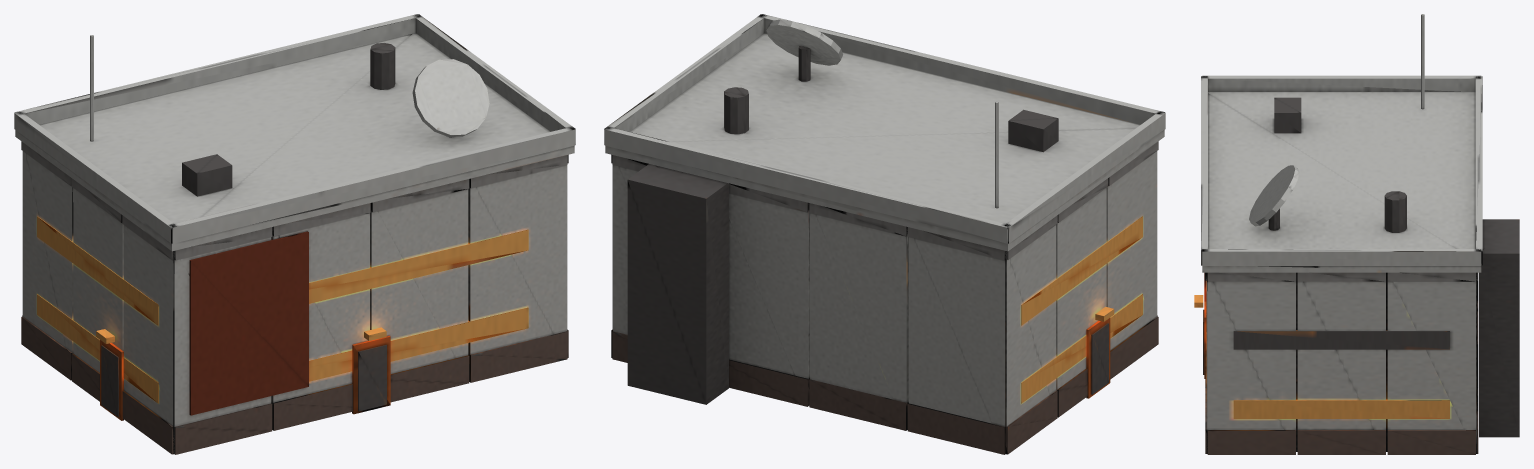
Rendered from B_plant_office.glb.
The picture shows the model from 3 angles, left to right: view 1: azimuth 30°, elevation 25°; view 2: azimuth 150°, elevation 25°; view 3: azimuth 270°, elevation 25°; orthographic projection. The views are drawn at different scales.
Visible parts, largest first — view 1: Cube; view 2: Cube; view 3: Cube.
Boxes of the visible parts, x1,y1,x2,y2 form: Cube: [14, 14, 575, 454]; Cube: [604, 14, 1165, 454]; Cube: [1194, 14, 1519, 454].
Bounding box in the file's own units: 18.8 × 14.1 × 14.45.
1 material, 1 textured.
